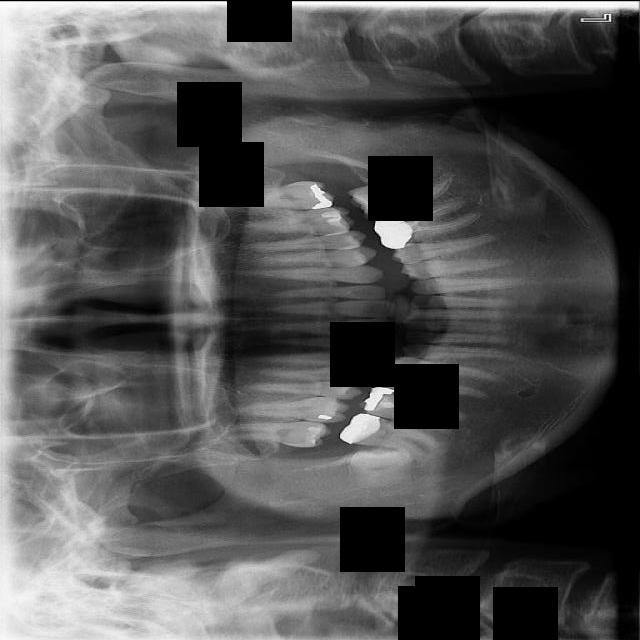52: (343, 173, 399, 230), (337, 401, 388, 454), (369, 204, 418, 255), (356, 375, 405, 425), (302, 202, 357, 239), (286, 178, 335, 210), (303, 393, 351, 424), (282, 419, 332, 447), (333, 284, 386, 299), (338, 334, 388, 349)
73: (615, 14, 621, 26)
BioHorizons Implant: (220, 178, 336, 209)
Blue Sky Bio Implant: (346, 160, 455, 226)
Caries: (215, 420, 332, 446)
Implant: (338, 408, 441, 464)
Keystone Dental Implant: (348, 442, 416, 492)
